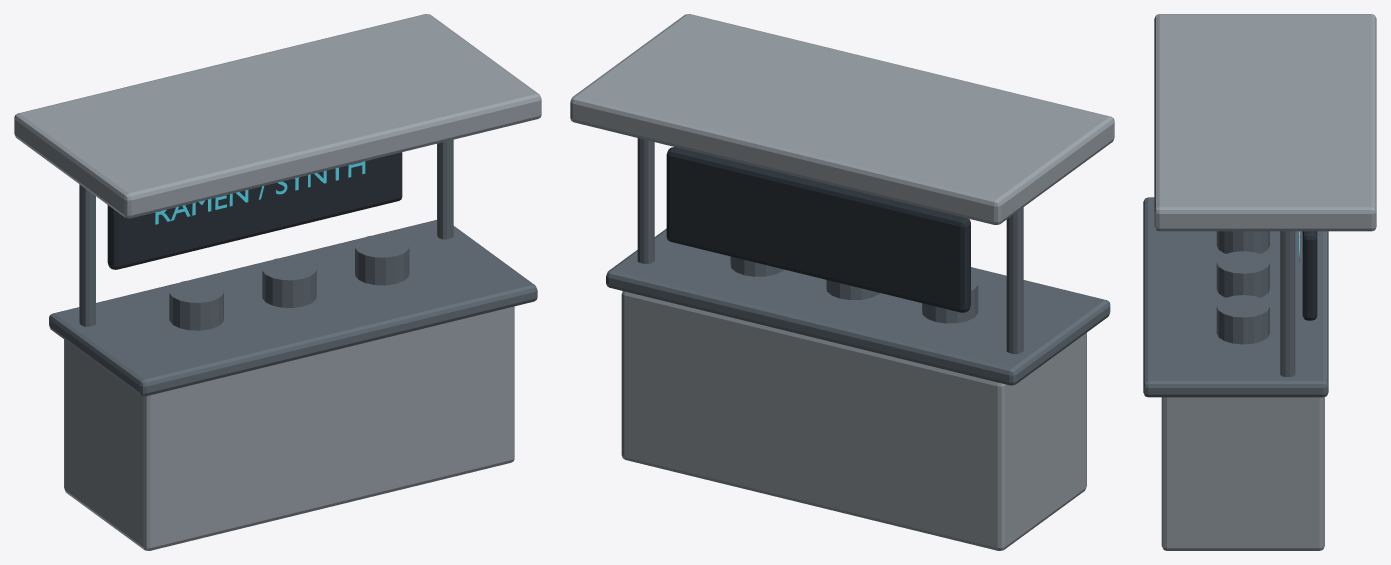
The model's file is 0_Landmark.fbx.
3 views of the same model, side by side, from view 1: azimuth 30°, elevation 25°; view 2: azimuth 150°, elevation 25°; view 3: azimuth 270°, elevation 25° (orthographic). The views are drawn at different scales.
Visible parts, largest first — view 1: Body; view 2: Body; view 3: Body.
Part boxes in pixels (bbox=[...]): Body: bbox=[14, 14, 541, 550]; Body: bbox=[570, 14, 1114, 550]; Body: bbox=[1143, 14, 1376, 550].
Size of the model in its own units: 3.15 by 2.64 by 1.58.
